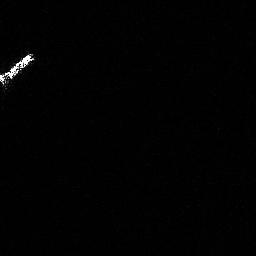ship: (1, 50, 37, 90)
